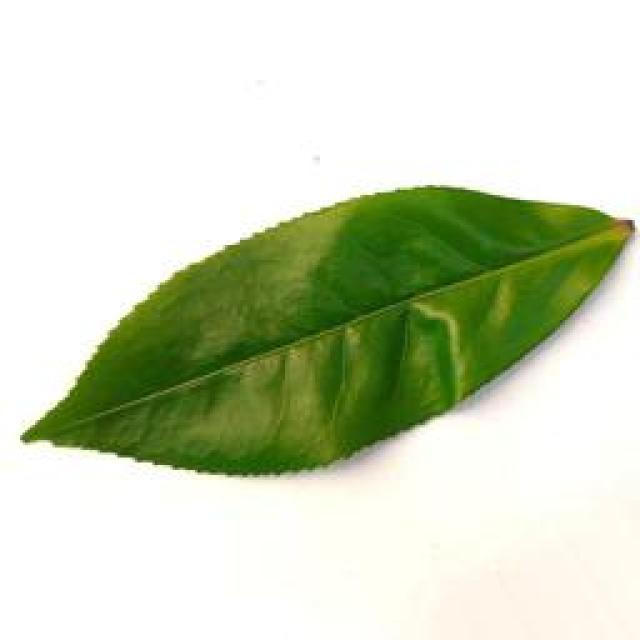Healthy: (16, 170, 640, 482)
